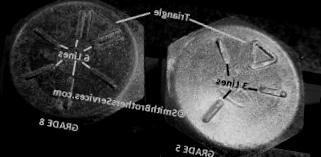hexagonal: (142, 4, 320, 157), (0, 0, 161, 145)
